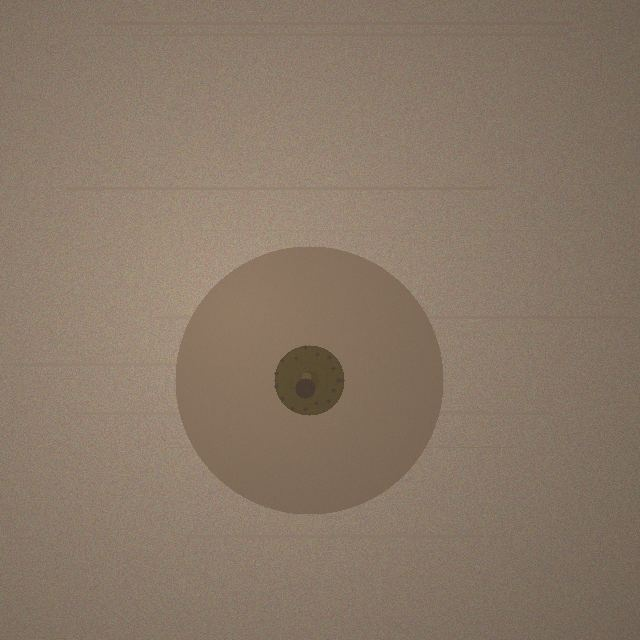cold_weld: (175, 246, 443, 514)
